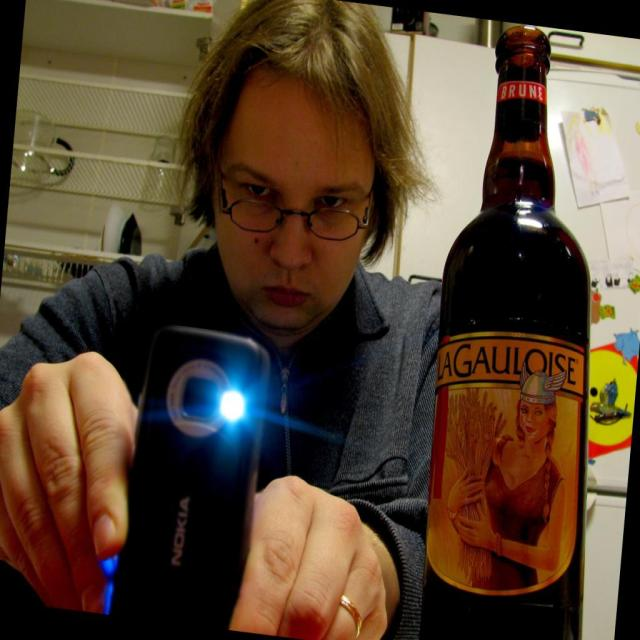phone: (112, 322, 266, 634)
